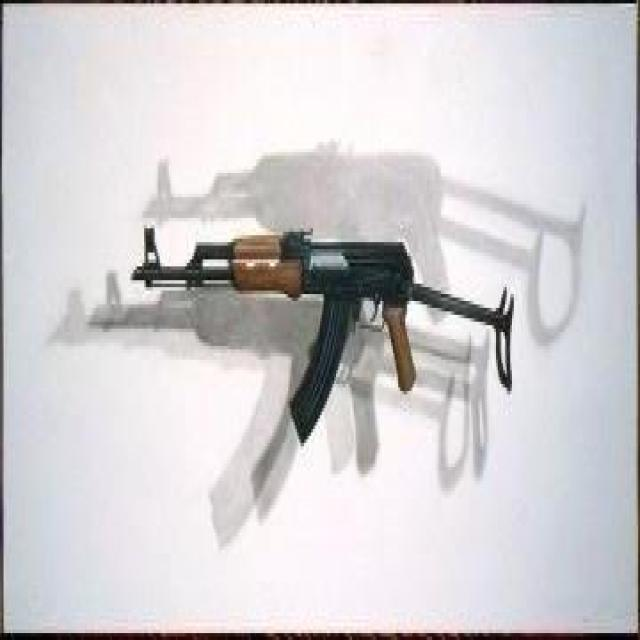Gun: (119, 188, 516, 474)
